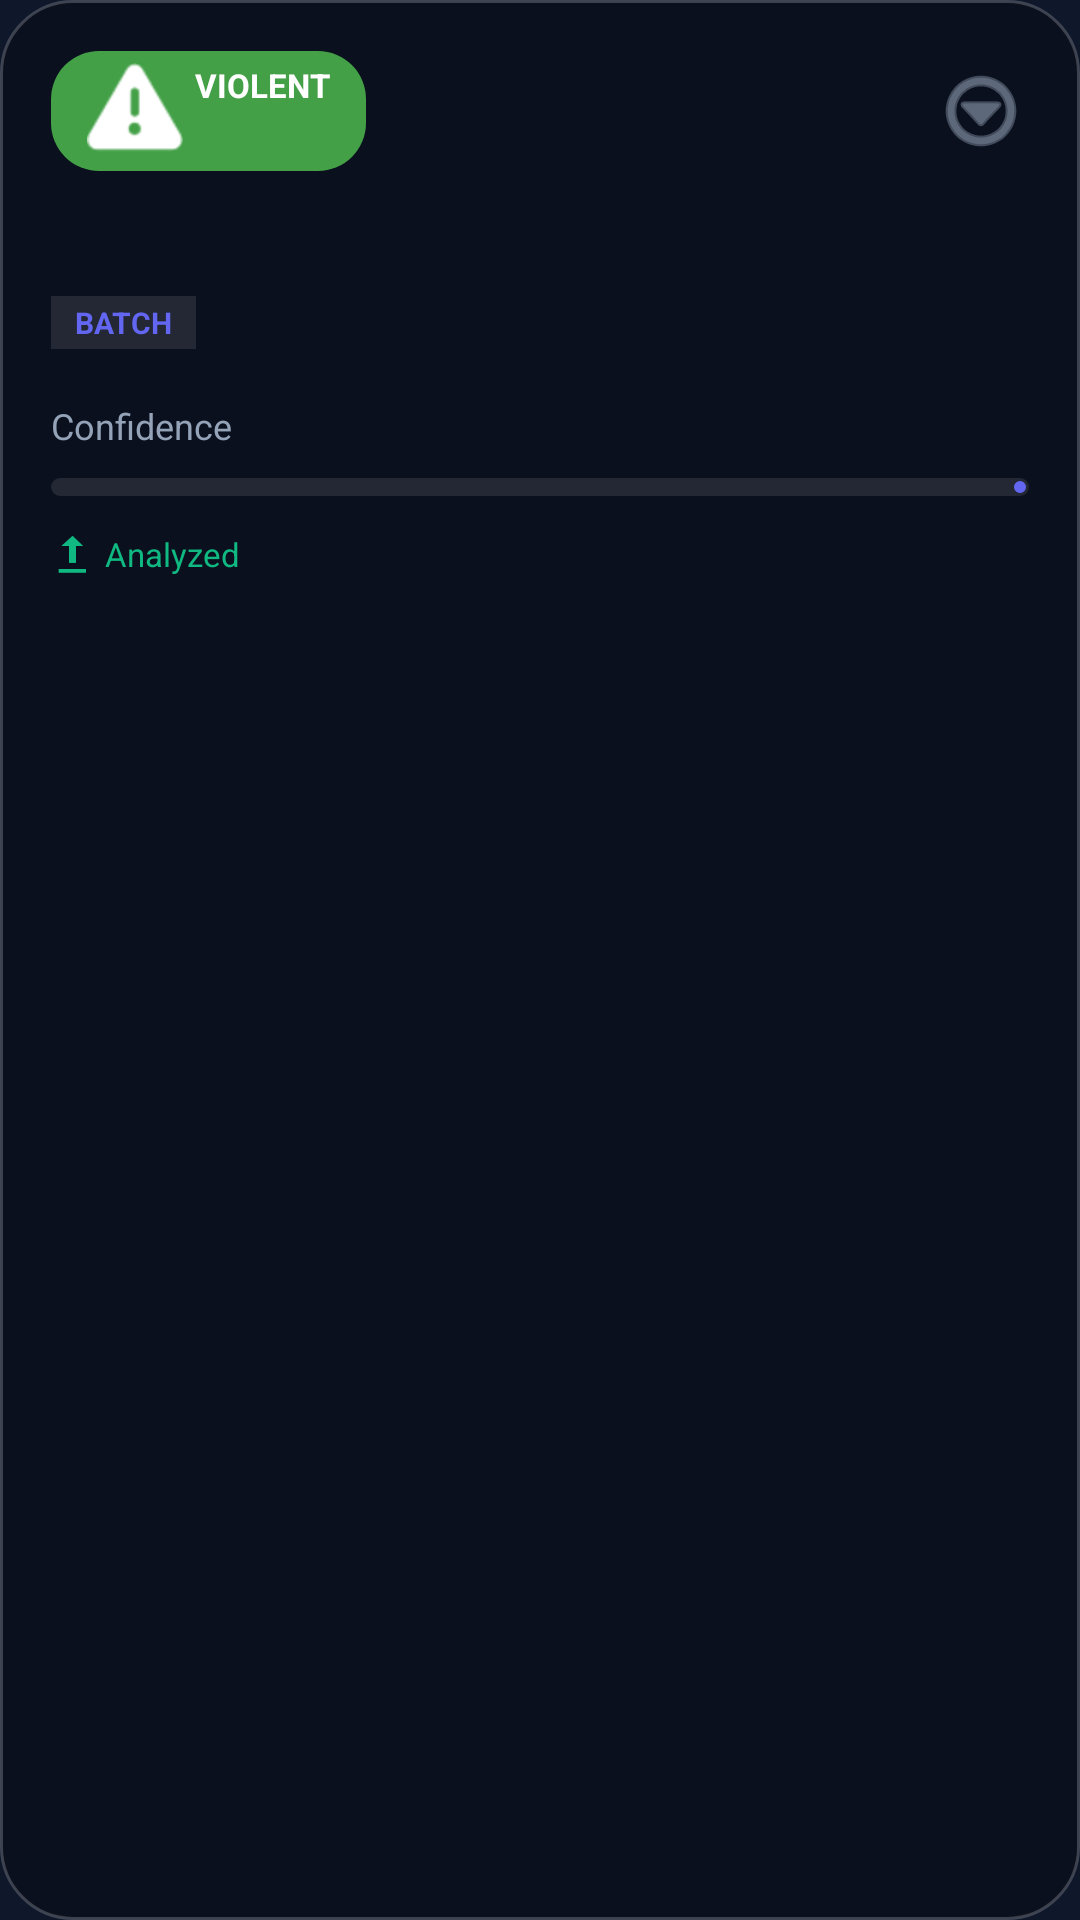

Screen size 1080x1920. Icon name, then its center in pixels as (x,y):
more: (981,111)
upload done: (72,554)
